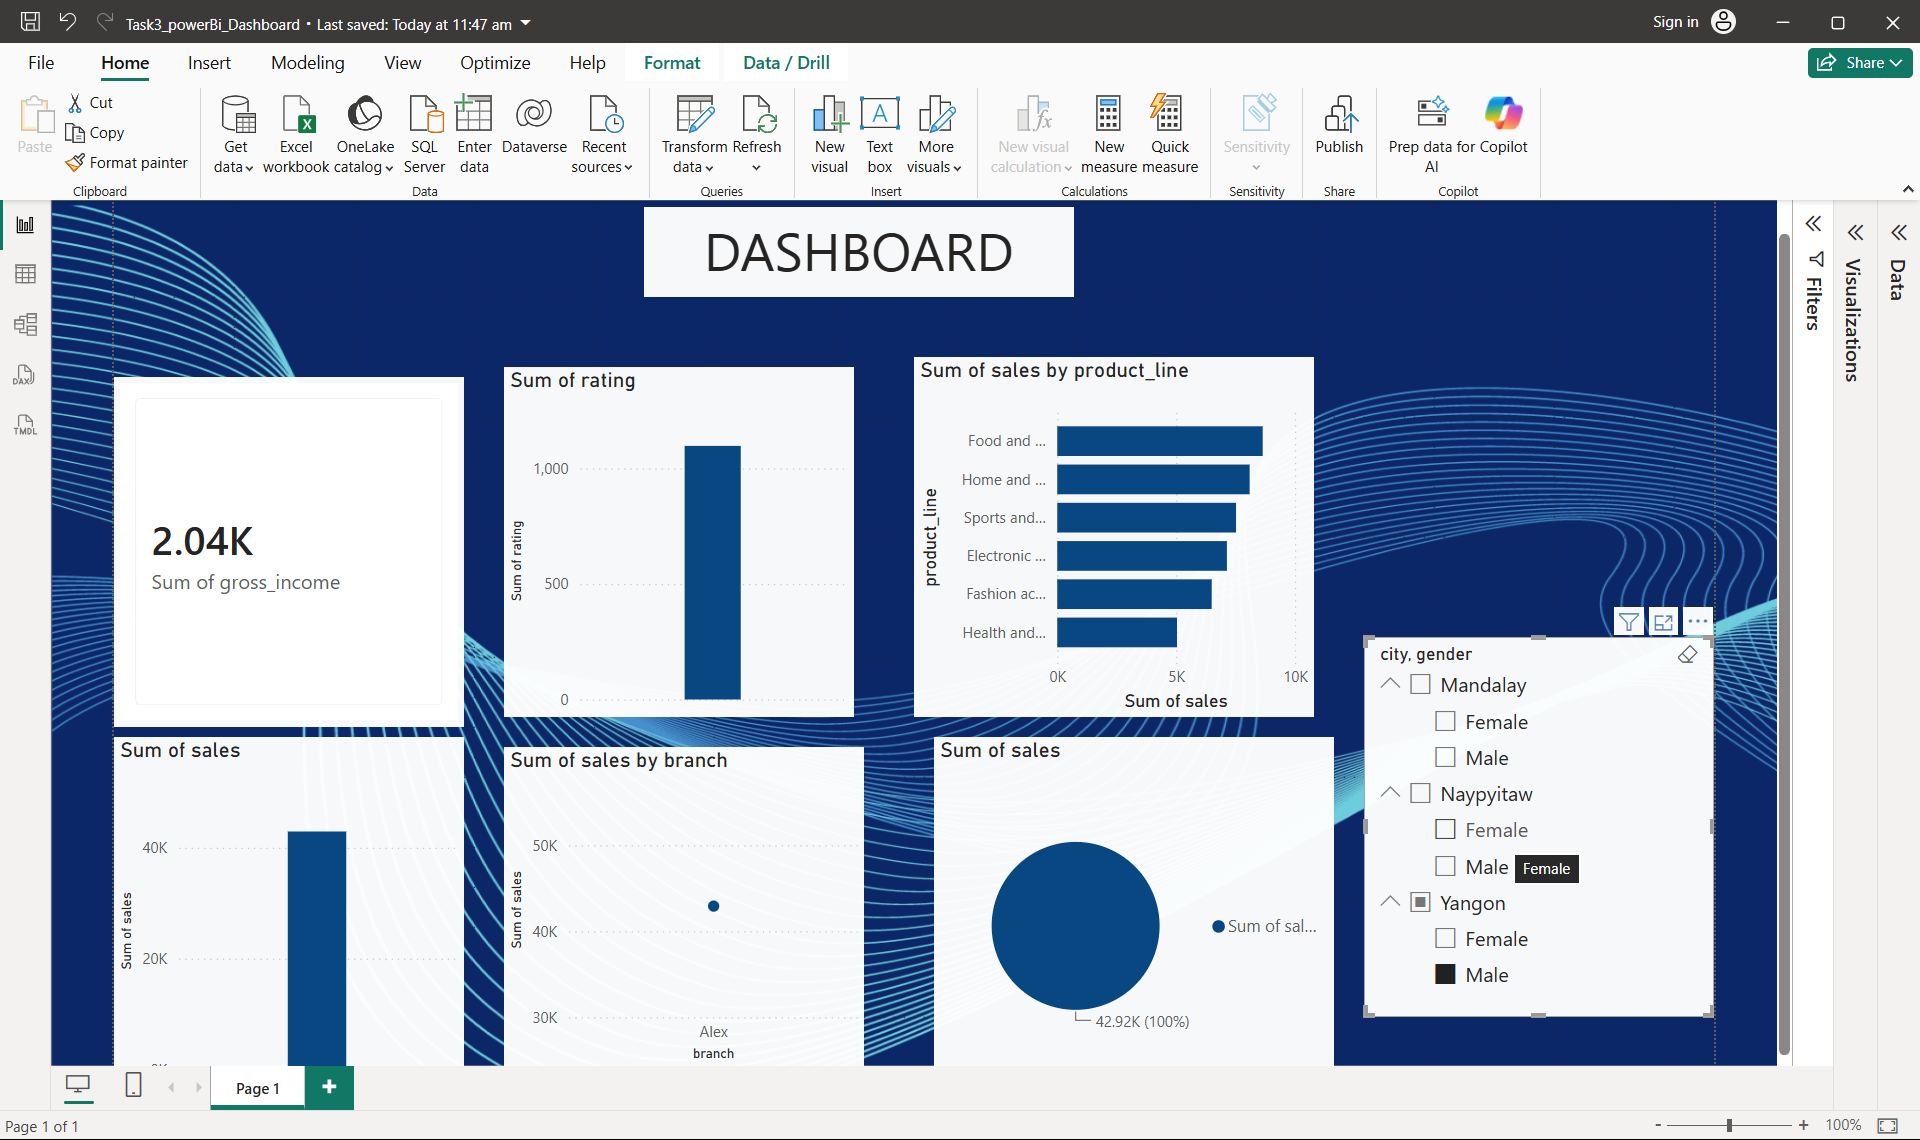

The page's visual inventory and layout, read from the dashboard file:
{"tool":"powerbi","page":{"name":"Page 1","canvas":[1280,720],"ordinal":0},"visuals":[{"type":"textbox","box":[424,24,344,72],"z":500},{"type":"cardVisual","fields":{"Data":["Sum(cleaned_supermarket.gross_income)"]},"box":[0,160,280,280],"z":1000},{"type":"clusteredColumnChart","fields":{"Y":["Sum(cleaned_supermarket.sales)"]},"box":[0,448,280,280],"z":2000},{"type":"clusteredColumnChart","fields":{"Y":["Sum(cleaned_supermarket.rating)"]},"box":[312,152,280,280],"z":3000},{"type":"clusteredBarChart","fields":{"Category":["cleaned_supermarket.product_line"],"Y":["Sum(cleaned_supermarket.sales)"]},"box":[640,144,320,288],"z":4000},{"type":"pieChart","fields":{"Y":["Sum(cleaned_supermarket.sales)"]},"box":[656,448,320,272],"z":5000},{"type":"lineChart","fields":{"Category":["cleaned_supermarket.branch"],"Y":["Sum(cleaned_supermarket.sales)"]},"box":[312,456,288,256],"z":6000},{"type":"slicer","fields":{"Values":["cleaned_supermarket.city","cleaned_supermarket.gender"]},"box":[1000,368,280,304],"z":7000}]}

Visuals, with their boxes on the page's 1280x720 design canvas (x1, y1, x2, y2). These are canvas units, not pixel positions in the 1920x1140 screenshot, which may show the page scaled, cropped or inside an application window:
textbox: box=[424, 24, 768, 96]
cardVisual - Sum(cleaned_supermarket.gross_income): box=[0, 160, 280, 440]
clusteredColumnChart - Sum(cleaned_supermarket.sales): box=[0, 448, 280, 728]
clusteredColumnChart - Sum(cleaned_supermarket.rating): box=[312, 152, 592, 432]
clusteredBarChart - cleaned_supermarket.product_line x Sum(cleaned_supermarket.sales): box=[640, 144, 960, 432]
pieChart - Sum(cleaned_supermarket.sales): box=[656, 448, 976, 720]
lineChart - cleaned_supermarket.branch x Sum(cleaned_supermarket.sales): box=[312, 456, 600, 712]
slicer - cleaned_supermarket.city x cleaned_supermarket.gender: box=[1000, 368, 1280, 672]
